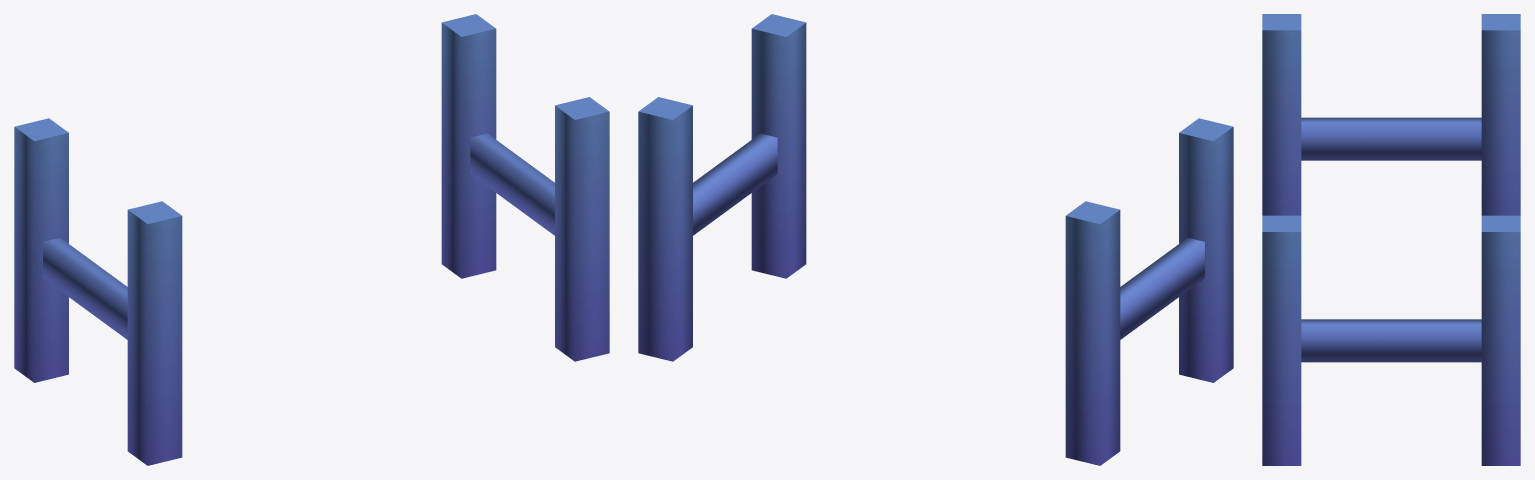
File: supports-wide.glb
3 views of the same model, side by side, from view 1: azimuth 30°, elevation 25°; view 2: azimuth 150°, elevation 25°; view 3: azimuth 270°, elevation 25° (orthographic). The views are drawn at different scales.
Parts seen in each view (by area): view 1: supports-wide; view 2: supports-wide; view 3: supports-wide.
Boxes of the visible parts, <box> form: supports-wide: <box>14,14,609,465</box>; supports-wide: <box>638,14,1233,465</box>; supports-wide: <box>1262,14,1520,465</box>.
Size of the model in its own units: 2 by 1 by 1.
1 material, 1 textured.
